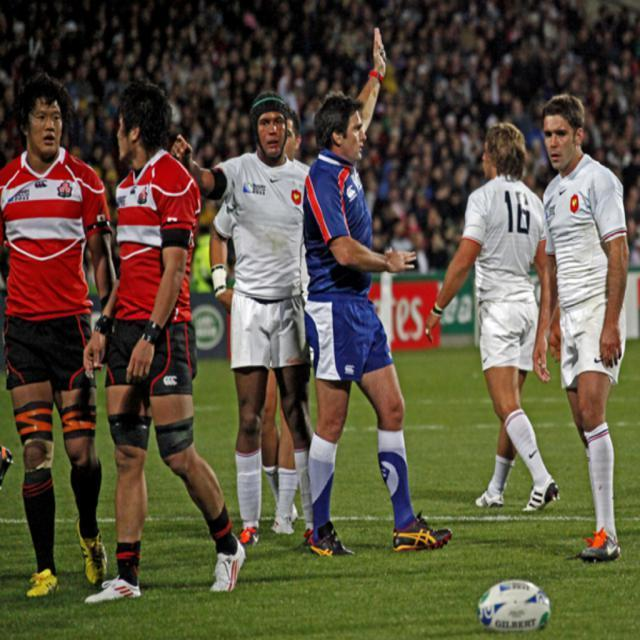football: (464, 575, 553, 640)
